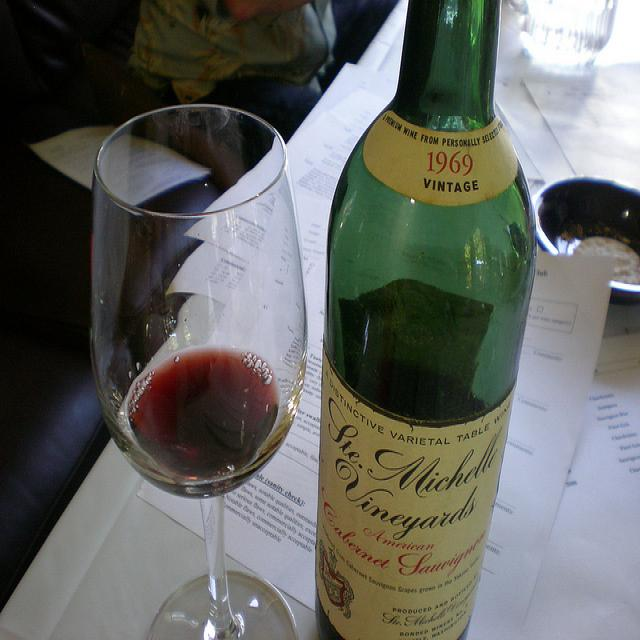chair: (2, 2, 131, 303)
dining table: (1, 453, 208, 637)
